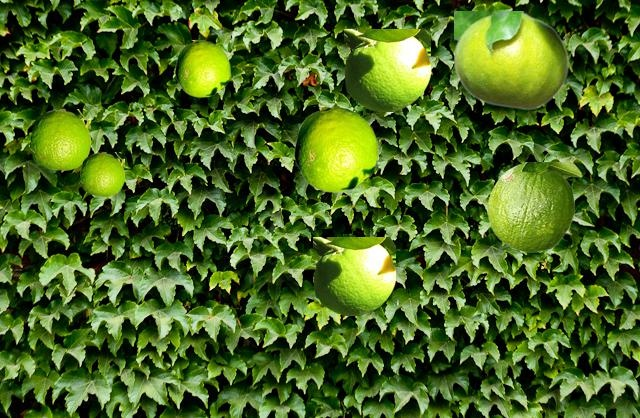dalandan: (454, 11, 568, 109), (487, 162, 581, 251), (294, 106, 377, 191), (344, 29, 429, 110), (313, 237, 394, 314), (30, 109, 89, 169), (175, 40, 229, 96), (80, 152, 123, 195)
